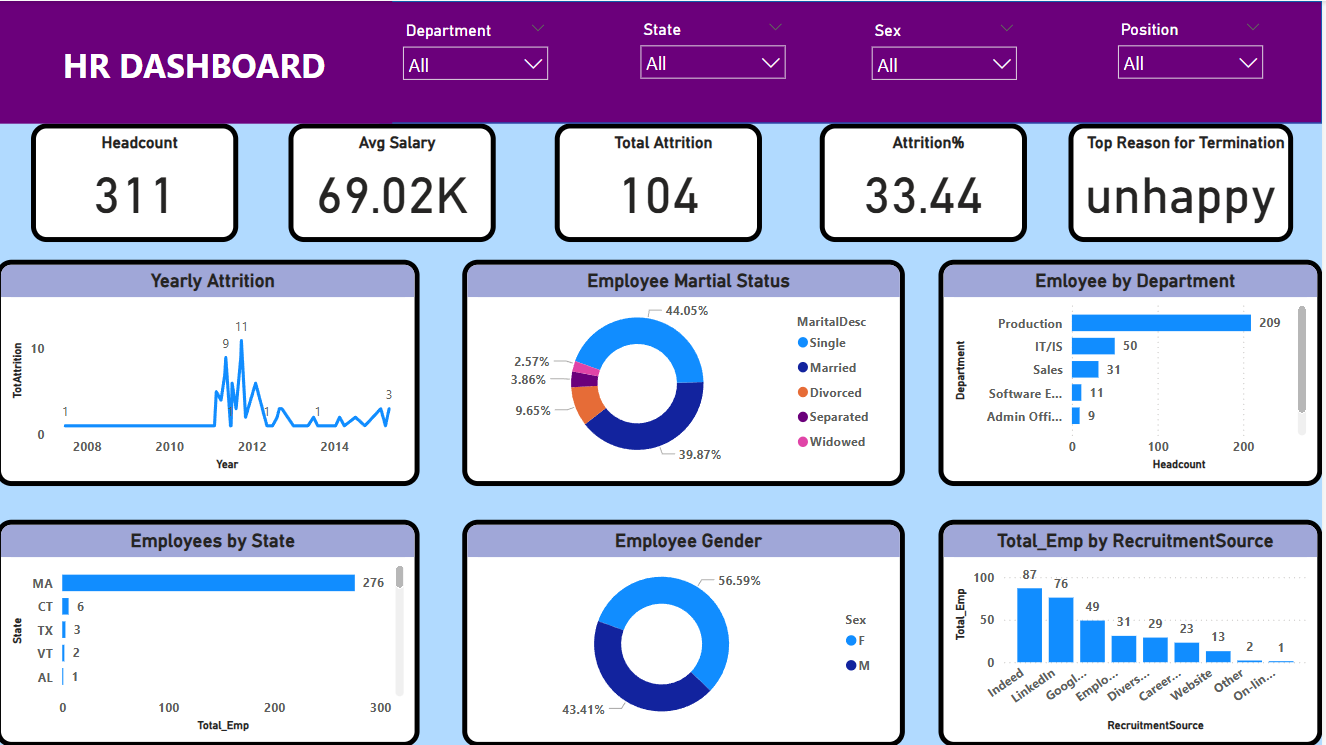

Layout of this report page (visuals, bound fields, positions):
{"tool":"powerbi","page":{"name":"Page 1","canvas":[1280,720],"ordinal":0},"visuals":[{"type":"donutChart","title":"Employee Gender","fields":{"Y":["\"measures\".Total_Emp"],"Category":["HRDataset_v14.Sex"]},"box":[450,500.7,427.1,219.6],"z":5000},{"type":"clusteredBarChart","title":"Emloyee by Department","fields":{"Category":["HRDataset_v14.Department"],"Y":["\"measures\".Total_Emp"]},"box":[909.7,249.7,370.4,218.4],"z":6000},{"type":"clusteredColumnChart","fields":{"Category":["HRDataset_v14.RecruitmentSource"],"Y":["\"measures\".Total_Emp"]},"box":[909.7,500.7,370.4,219.6],"z":7000},{"type":"donutChart","title":"Employee Martial Status","fields":{"Y":["\"measures\".Total_Emp"],"Category":["HRDataset_v14.MaritalDesc"]},"box":[450,249.7,427.1,218.4],"z":8000},{"type":"card","title":"Top Reason for Termination","fields":{"Values":["Min(HRDataset_v14.TermReason)"]},"box":[1035.1,118.2,217.2,114.6],"z":9000},{"type":"lineChart","title":"Yearly Attrition","fields":{"Y":["\"measures\".TotAttrition"],"Category":["HRDataset_v14.DateofHire_Clean"]},"box":[0,249.7,409,218.4],"z":10000},{"type":"clusteredBarChart","title":"Employees by State","fields":{"Y":["\"measures\".Total_Emp"],"Category":["HRDataset_v14.State"]},"box":[0,500.7,409,219.6],"z":11000},{"type":"card","title":"Headcount","fields":{"Values":["\"measures\".Total_Emp"]},"box":[33.8,118.2,200.3,114.6],"z":11001},{"type":"card","title":"Avg Salary","fields":{"Values":["\"measures\".AvgSalary"]},"box":[282.3,118.2,200.3,114.6],"z":11002},{"type":"card","title":"Total Attrition","fields":{"Values":["\"measures\".TotAttrition"]},"box":[539.3,118.2,200.3,114.6],"z":11003},{"type":"card","title":"Attrition%","fields":{"Values":["\"measures\".Attritin%"]},"box":[795,118.2,200.3,114.6],"z":11004},{"type":"shape","box":[370.4,0,909.7,118.2],"z":11005},{"type":"textbox","box":[0,0,382.4,118.2],"z":11006},{"type":"slicer","fields":{"Values":["HRDataset_v14.Department"]},"box":[382.4,14.5,160.5,90.5],"z":11007},{"type":"slicer","fields":{"Values":["HRDataset_v14.State"]},"box":[611.7,13.3,160.5,90.5],"z":11008},{"type":"slicer","fields":{"Values":["HRDataset_v14.Sex"]},"box":[834.9,14.5,160.5,90.5],"z":11009},{"type":"slicer","fields":{"Values":["HRDataset_v14.Position"]},"box":[1072.5,13.3,160.5,90.5],"z":11010}]}

Visuals, with their boxes in screenshot pixels (x1, y1, x2, y2), scaled from the page's 1280x720 canvas onto the 1326x745 screenshot:
"Employee Gender" donutChart: left=466, top=518, right=909, bottom=744
"Emloyee by Department" clusteredBarChart: left=942, top=258, right=1325, bottom=484
clusteredColumnChart - HRDataset_v14.RecruitmentSource x "measures".Total_Emp: left=942, top=518, right=1325, bottom=744
"Employee Martial Status" donutChart: left=466, top=258, right=909, bottom=484
"Top Reason for Termination" card: left=1072, top=122, right=1297, bottom=241
"Yearly Attrition" lineChart: left=0, top=258, right=424, bottom=484
"Employees by State" clusteredBarChart: left=0, top=518, right=424, bottom=744
"Headcount" card: left=35, top=122, right=243, bottom=241
"Avg Salary" card: left=292, top=122, right=500, bottom=241
"Total Attrition" card: left=559, top=122, right=766, bottom=241
"Attrition%" card: left=824, top=122, right=1031, bottom=241
shape: left=384, top=0, right=1325, bottom=122
textbox: left=0, top=0, right=396, bottom=122
slicer - HRDataset_v14.Department: left=396, top=15, right=562, bottom=109
slicer - HRDataset_v14.State: left=634, top=14, right=800, bottom=107
slicer - HRDataset_v14.Sex: left=865, top=15, right=1031, bottom=109
slicer - HRDataset_v14.Position: left=1111, top=14, right=1277, bottom=107
